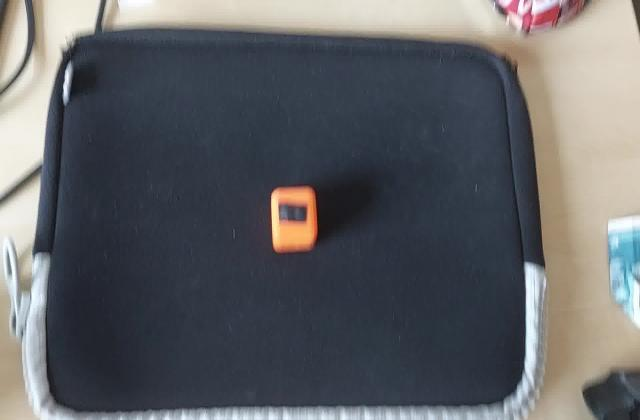black: (277, 200, 312, 226)
sticker: (268, 186, 321, 256)
